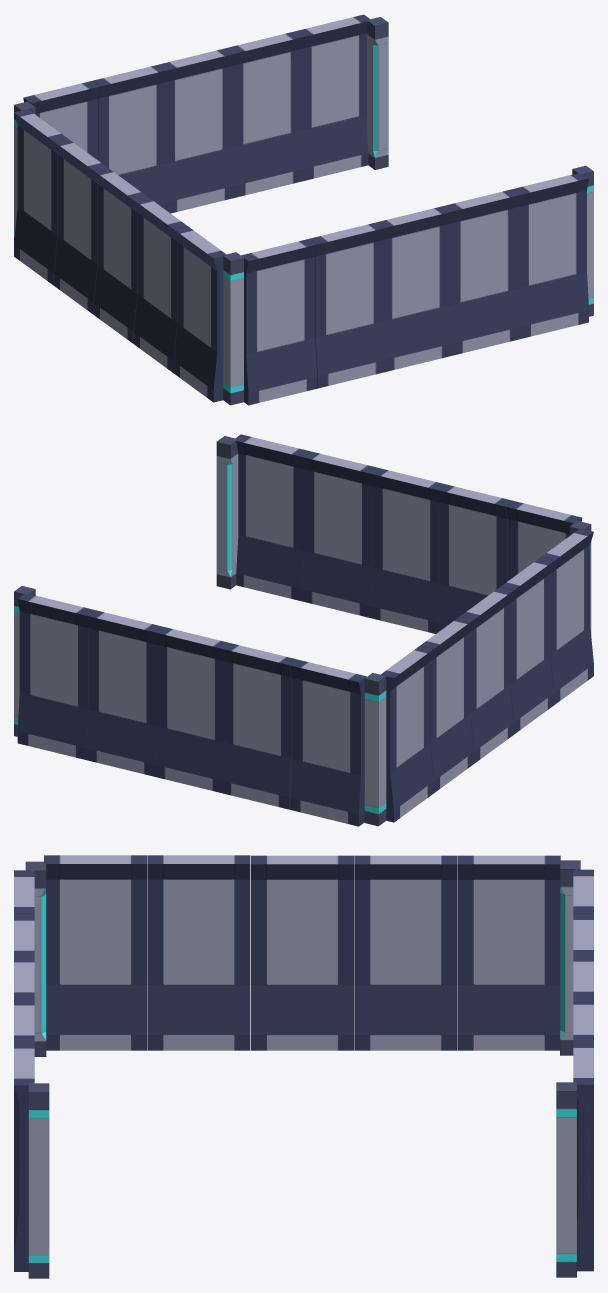
The model's file is Wall(NEW).fbx.
3 renders of one model, top to bottom at view 1: azimuth 30°, elevation 25°; view 2: azimuth 150°, elevation 25°; view 3: azimuth 270°, elevation 25°, orthographic. The views are drawn at different scales.
Parts seen in each view (by area): view 1: Cube.008; view 2: Cube.008; view 3: Cube.008.
Part boxes in pixels (x1,y1,x2,y2): Cube.008: (14,14,593,405); Cube.008: (14,434,593,826); Cube.008: (14,855,593,1278).
Size of the model in its own units: 816 by 300 by 845.
